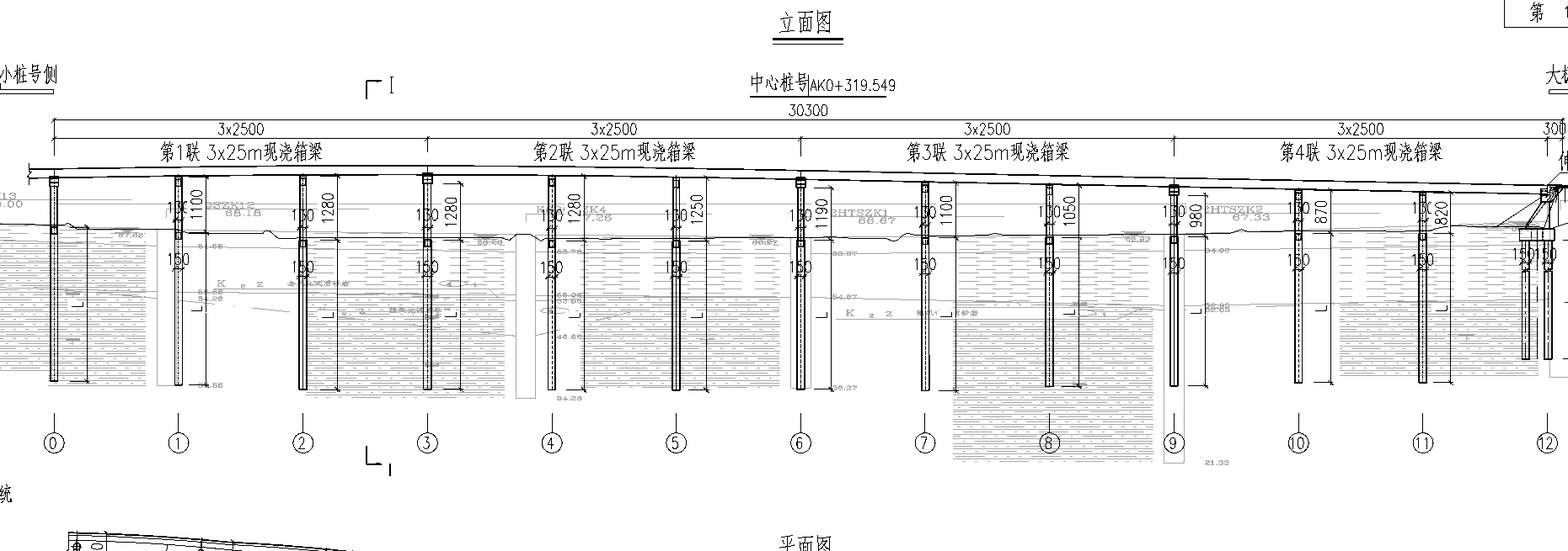C: (867, 174, 945, 458), (395, 165, 461, 463), (151, 170, 213, 463), (771, 172, 832, 463), (526, 165, 581, 459), (270, 171, 324, 464), (1507, 215, 1566, 464), (1024, 181, 1072, 453), (648, 171, 692, 464), (1276, 181, 1321, 457), (1409, 185, 1442, 467), (1155, 180, 1185, 464)
